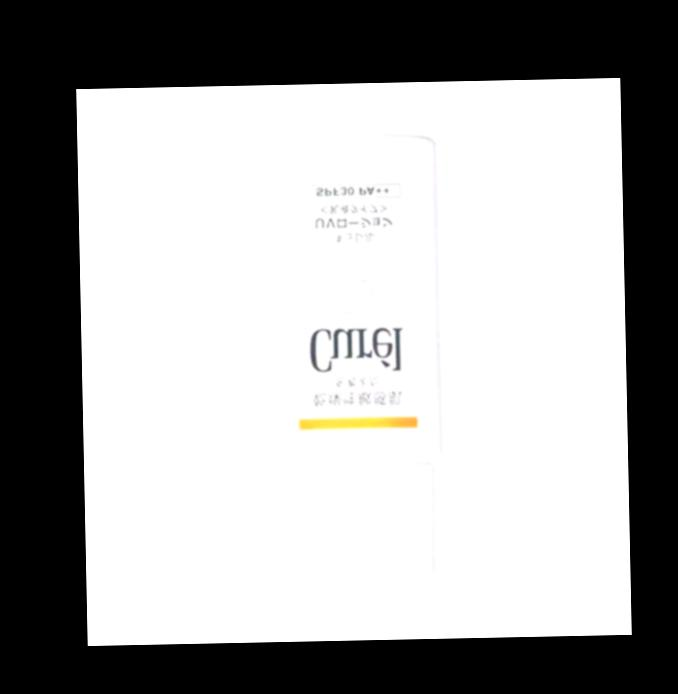cosmetic: (268, 138, 445, 581)
